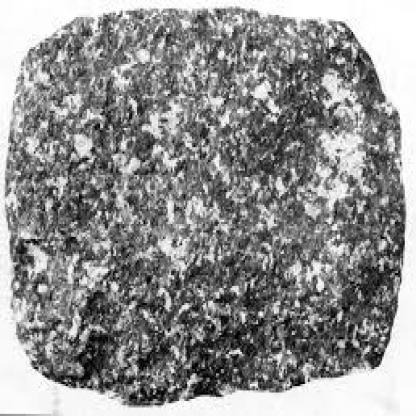Igneous_Diorite: (7, 11, 414, 401)
